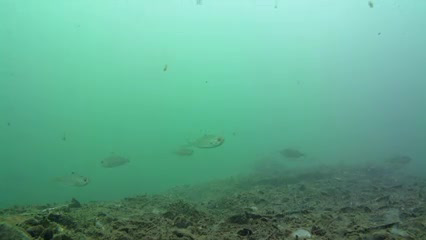azi: (192, 132, 226, 150)
smallfish: (50, 166, 93, 190), (93, 148, 136, 167)
